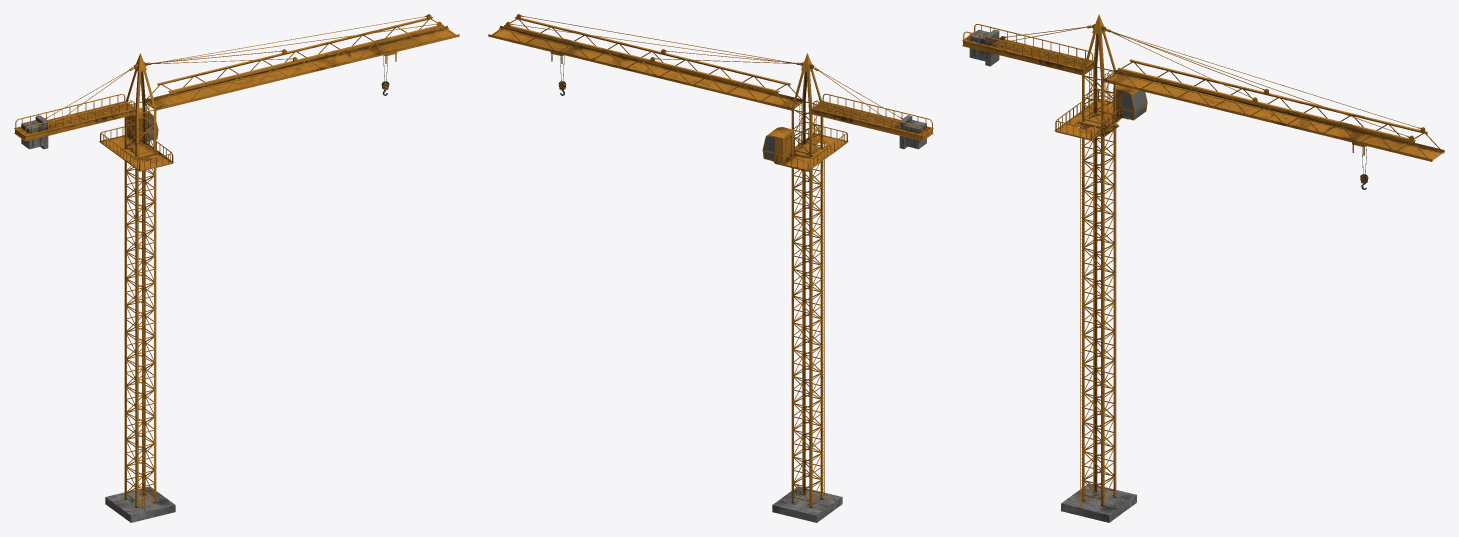
File: Tower_crane.fbx
3 views of the same model, side by side, from view 1: azimuth 30°, elevation 25°; view 2: azimuth 150°, elevation 25°; view 3: azimuth 330°, elevation 25° (orthographic). The views are drawn at different scales.
Visible parts, largest first — view 1: Cube.052, Cube.055, Plane.023, Cube.073, Cube.053, Cube.054, Cube.056, Cube.101, Plane.029, Cube.074; view 2: Cube.052, Cube.055, Plane.023, Cube.073, Cube.053, Cube.054, Cube.056, Cube.101, Cube.072, Cube.075, Cube.074; view 3: Cube.052, Cube.055, Plane.023, Cube.073, Cube.053, Cube.054, Cube.056, Plane.029, Cube.074, Cube.101, Cube.075.
Boxes of the visible parts, left/top/right/bottom form: Cube.052: left=124, top=161, right=156, bottom=507; Cube.055: left=145, top=16, right=459, bottom=110; Plane.023: left=147, top=29, right=455, bottom=107; Cube.073: left=105, top=486, right=175, bottom=522; Cube.053: left=124, top=70, right=156, bottom=156; Cube.054: left=14, top=101, right=136, bottom=141; Cube.056: left=16, top=101, right=134, bottom=134; Cube.101: left=102, top=136, right=171, bottom=169; Plane.029: left=137, top=155, right=144, bottom=510; Cube.074: left=138, top=175, right=153, bottom=501; Cube.052: left=791, top=161, right=823, bottom=507; Cube.055: left=488, top=16, right=802, bottom=110; Plane.023: left=492, top=29, right=800, bottom=107; Cube.073: left=772, top=486, right=842, bottom=522; Cube.053: left=791, top=69, right=823, bottom=156; Cube.054: left=811, top=100, right=933, bottom=141; Cube.056: left=813, top=101, right=931, bottom=134; Cube.101: left=776, top=134, right=845, bottom=169; Cube.072: left=762, top=127, right=794, bottom=163; Cube.075: left=794, top=175, right=809, bottom=501; Cube.074: left=804, top=169, right=821, bottom=493; Cube.052: left=1082, top=129, right=1116, bottom=506; Cube.055: left=1103, top=59, right=1444, bottom=161; Plane.023: left=1107, top=73, right=1442, bottom=160; Cube.073: left=1061, top=483, right=1136, bottom=522; Cube.053: left=1082, top=32, right=1116, bottom=126; Cube.054: left=962, top=32, right=1094, bottom=75; Cube.056: left=965, top=36, right=1092, bottom=68; Plane.029: left=1075, top=120, right=1083, bottom=505; Cube.074: left=1084, top=136, right=1100, bottom=499; Cube.101: left=1057, top=100, right=1118, bottom=138; Cube.075: left=1095, top=137, right=1114, bottom=490.
Bounding box in the file's own units: 0.0828 × 0.515 × 0.5162.
7 materials, 7 textured.
